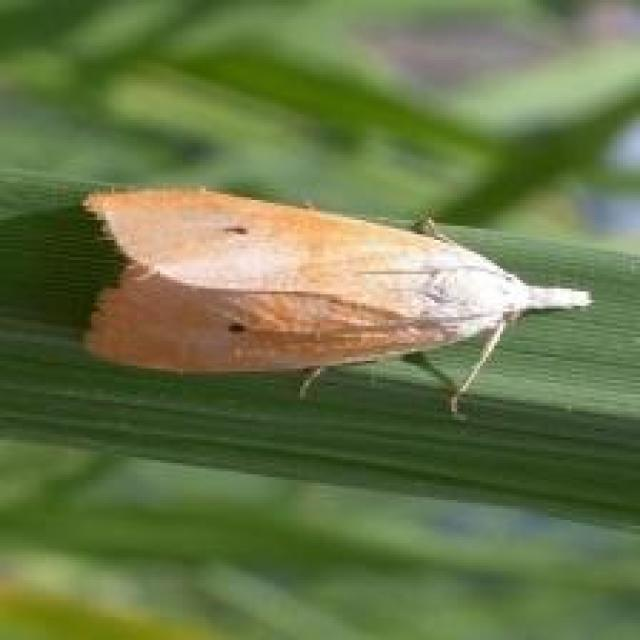yellow-stem-borer: (62, 127, 600, 438)
